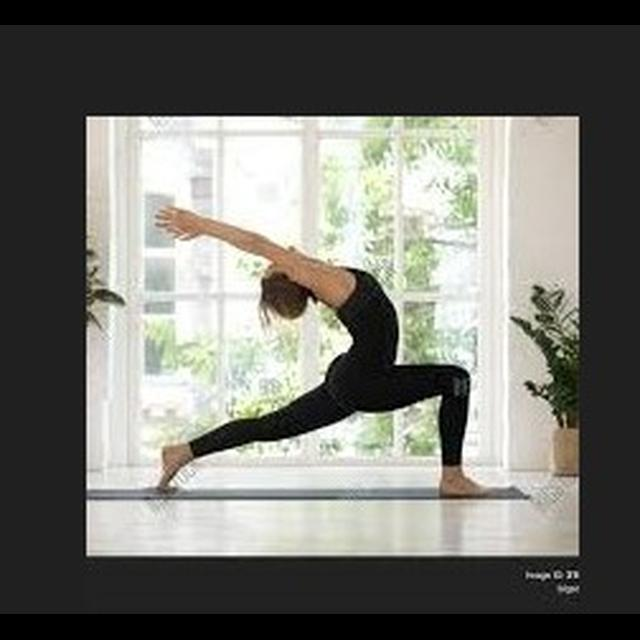Warrior_I: (143, 192, 506, 504)
